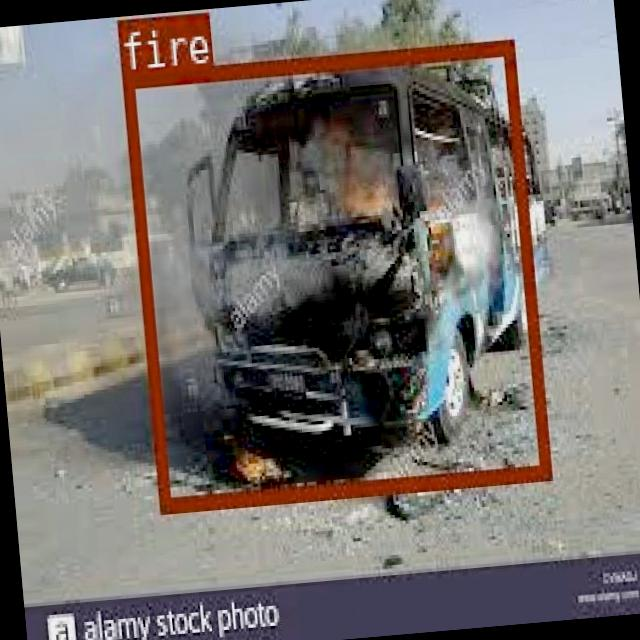fire: (119, 38, 548, 510)
